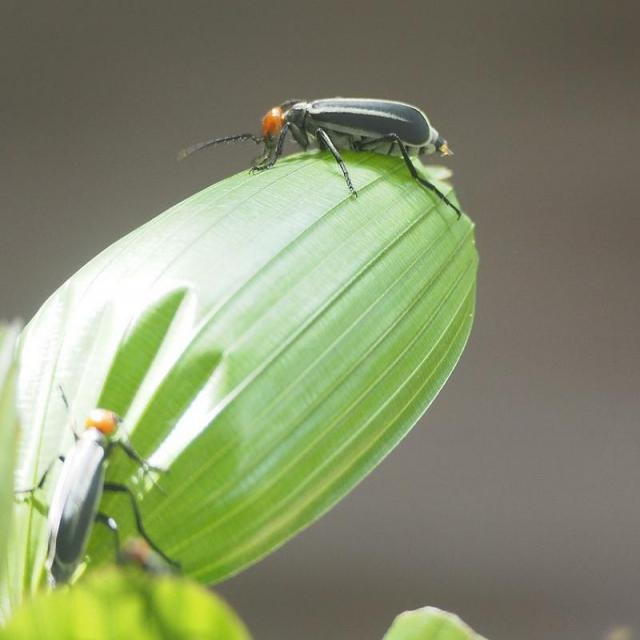BlisterBeetle-Adult-: (188, 92, 470, 227), (33, 381, 169, 595)
